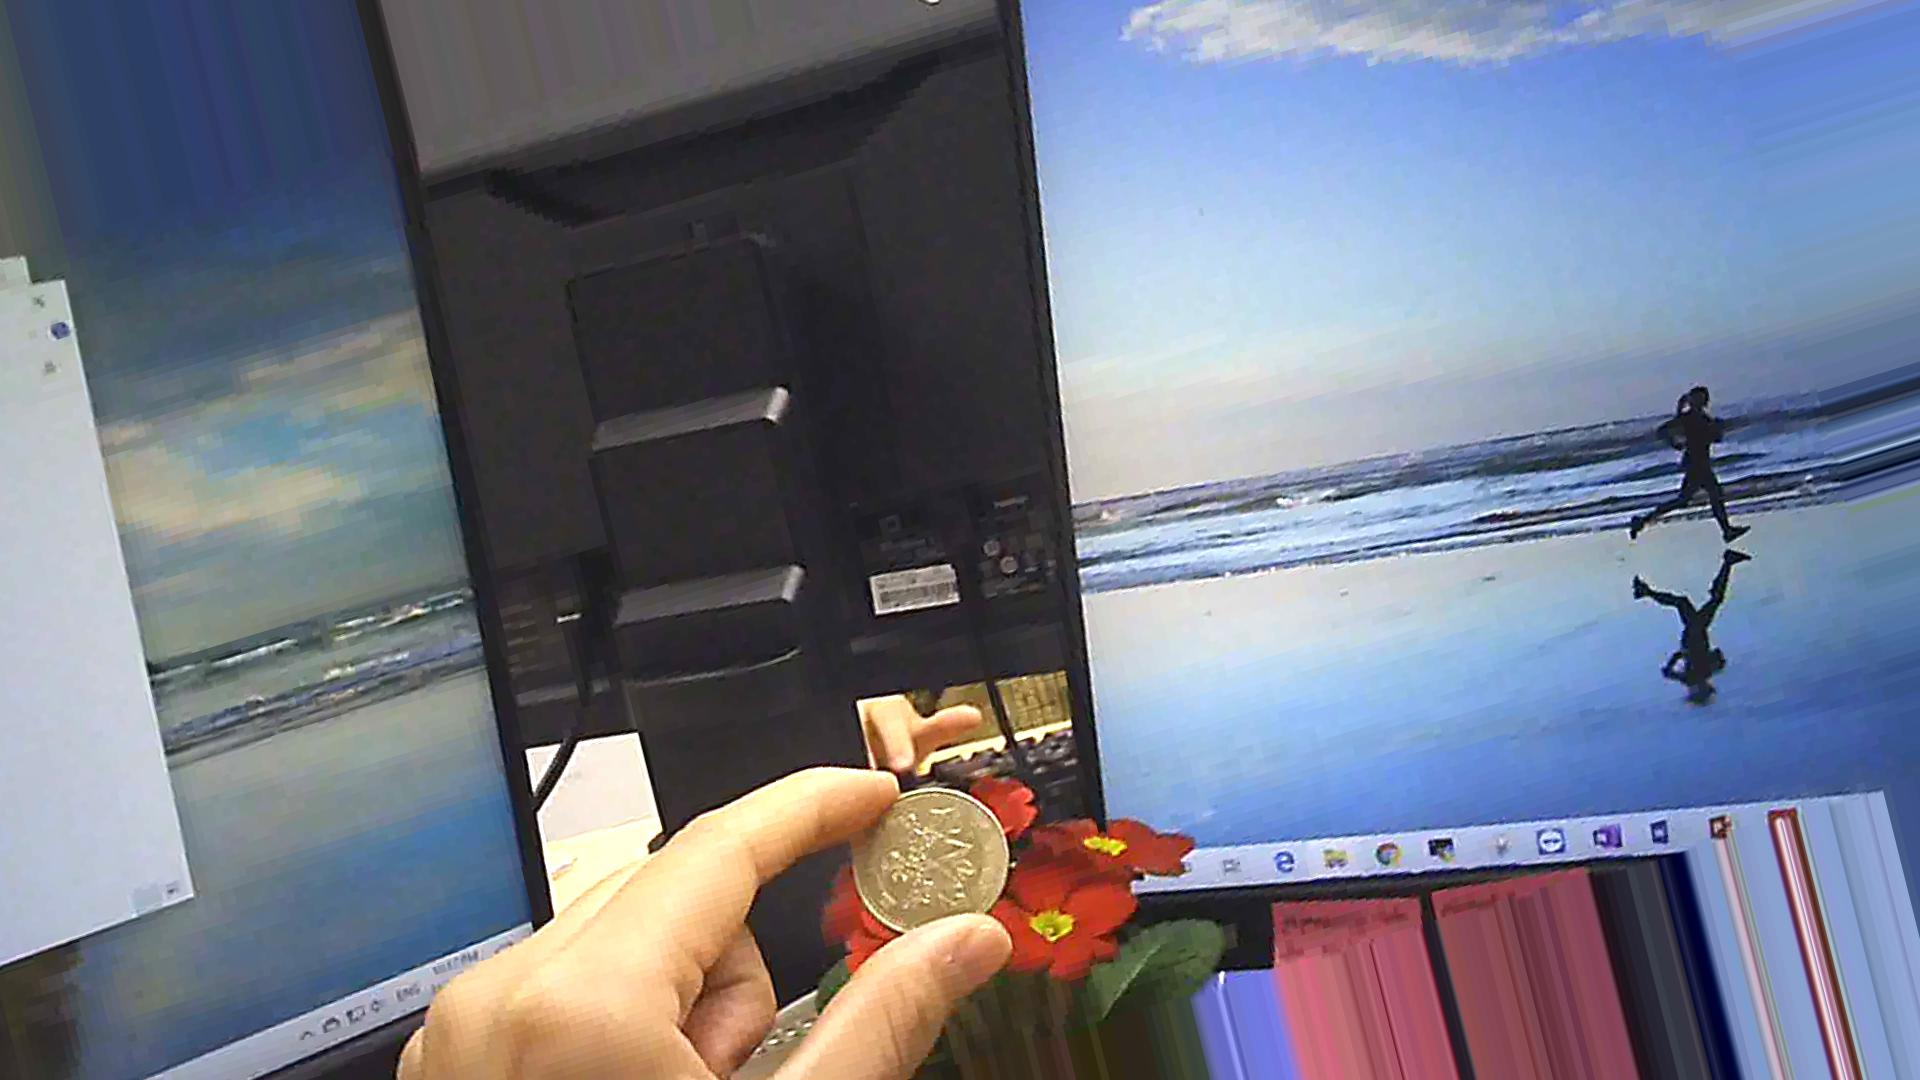500 Yen: (843, 765, 1019, 928)
